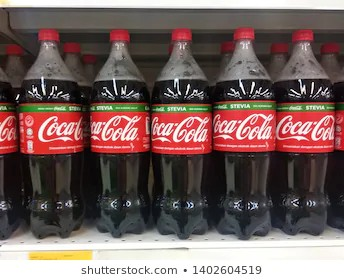coke-bottle-2l: (21, 21, 86, 237), (273, 27, 337, 239), (88, 25, 149, 237), (214, 28, 275, 240), (152, 28, 213, 237)
